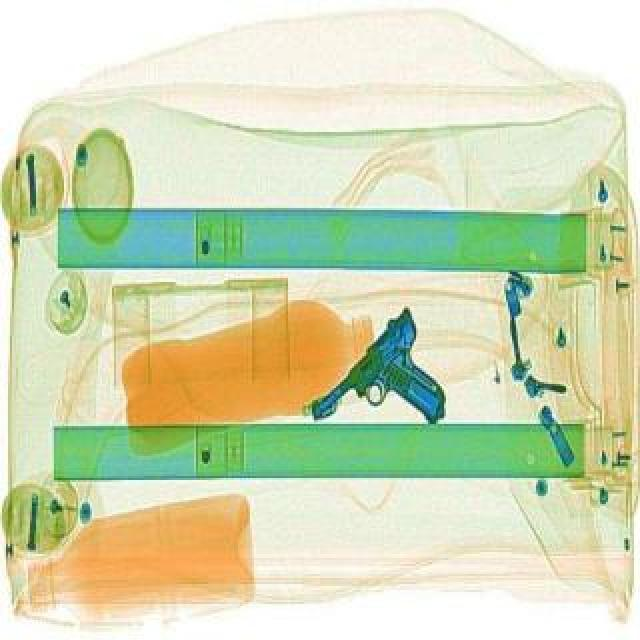gun: (306, 302, 486, 470)
